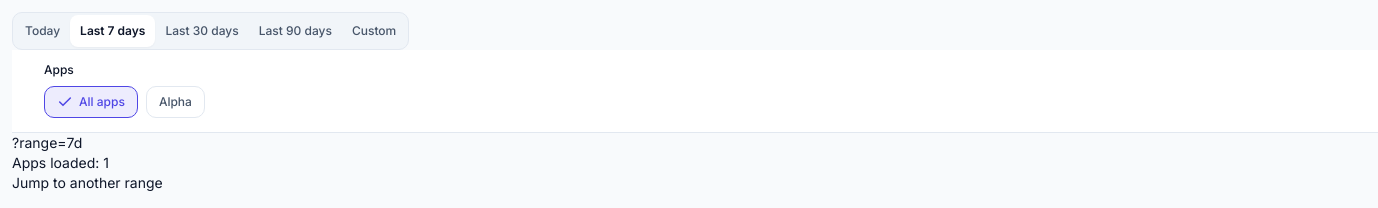
Test: app filter › keeps the chosen range when apps are picked
Click the button "Alpha".
click(175, 102)  # box [146,86,205,118]
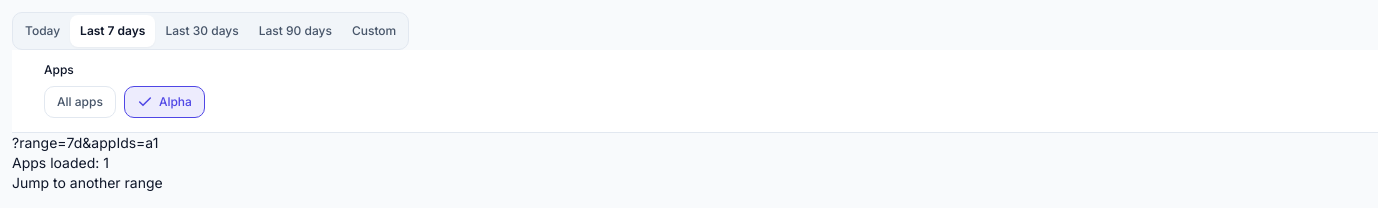
Result: the text with test id "address" reads "?range=7d&appIds=a1" at [12,134,158,151]
